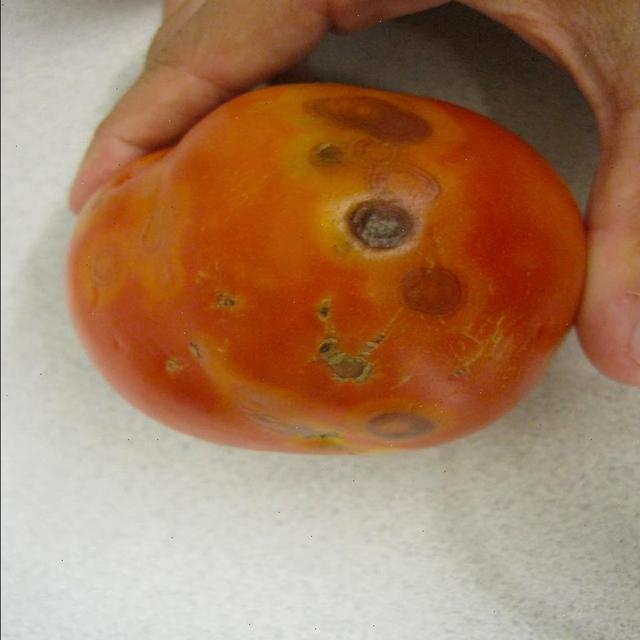Spotted wilt Virus Fruit: (22, 104, 78, 336)
